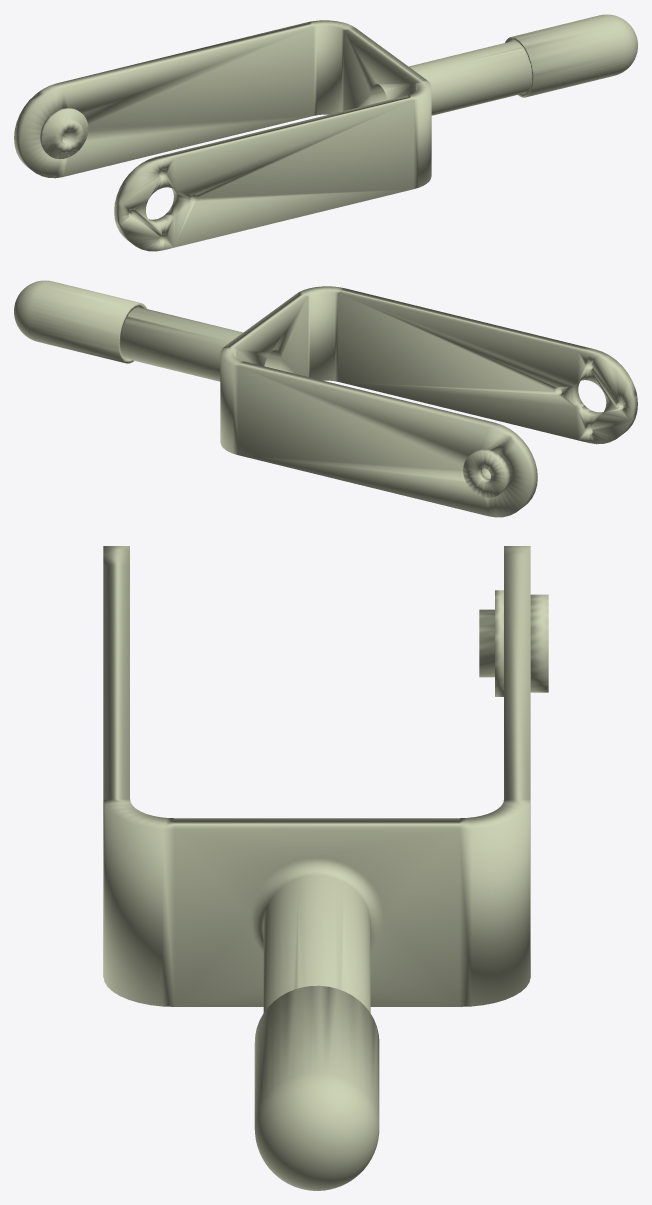
File: tibia_left.dae
The picture shows the model from 3 angles, top to bottom: view 1: azimuth 30°, elevation 25°; view 2: azimuth 150°, elevation 25°; view 3: azimuth 270°, elevation 25°; orthographic projection. The views are drawn at different scales.
Parts seen in each view (by area): view 1: STL object-0-0; view 2: STL object-0-0; view 3: STL object-0-0.
Part boxes in pixels (<box>): STL object-0-0: <box>14,14,637,251</box>; STL object-0-0: <box>14,280,637,517</box>; STL object-0-0: <box>103,546,548,1190</box>.
Bounding box in the file's own units: 147 × 22 × 50.
